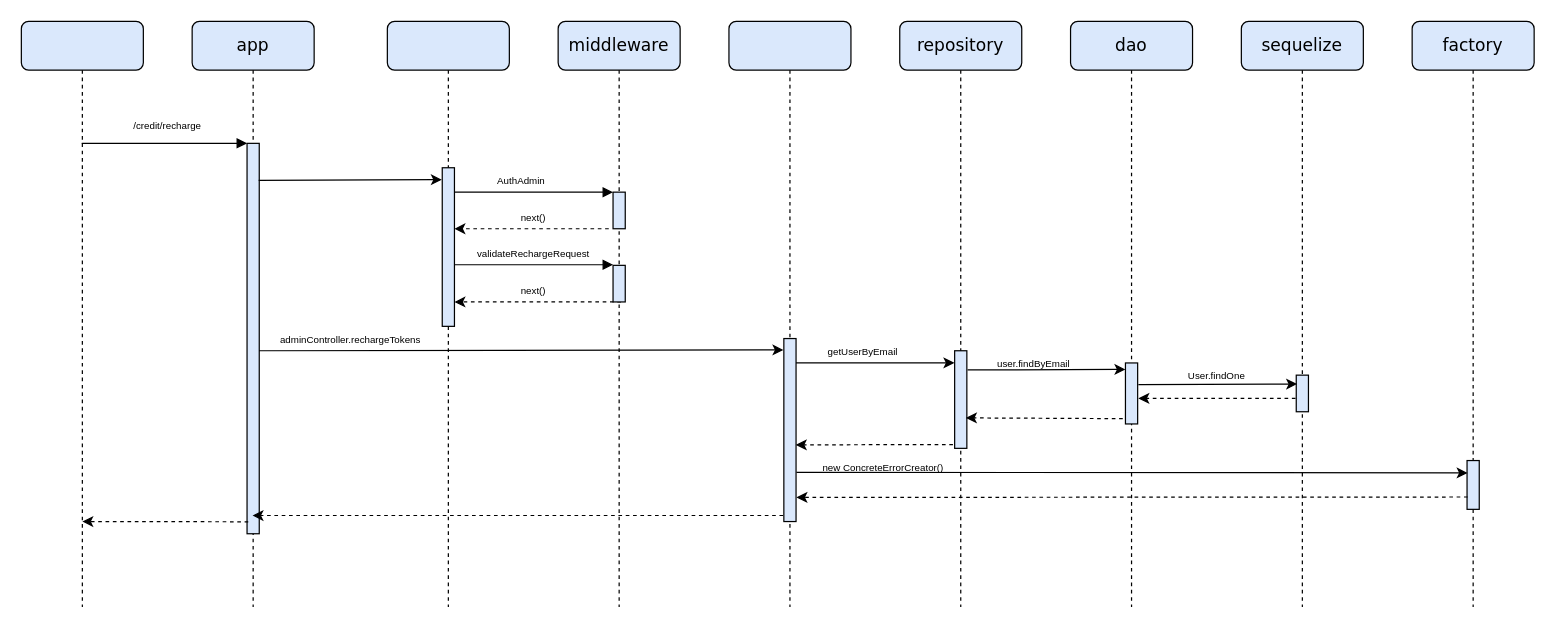
Some shapes in this 1556 by 628 pixel diagram are drawn without their labels. The shapes that lost their labels are listed below. From the top down, each one's box as (x1, y1, x2, y2) in pixels, then its label:
(20, 20, 143, 607): client
(386, 20, 509, 607): CoR
(728, 20, 851, 607): controller
